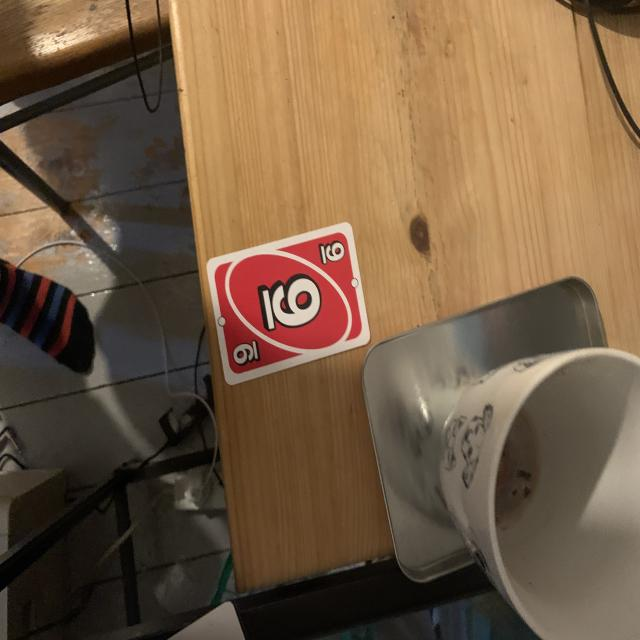lred-9: (315, 236, 348, 269)
